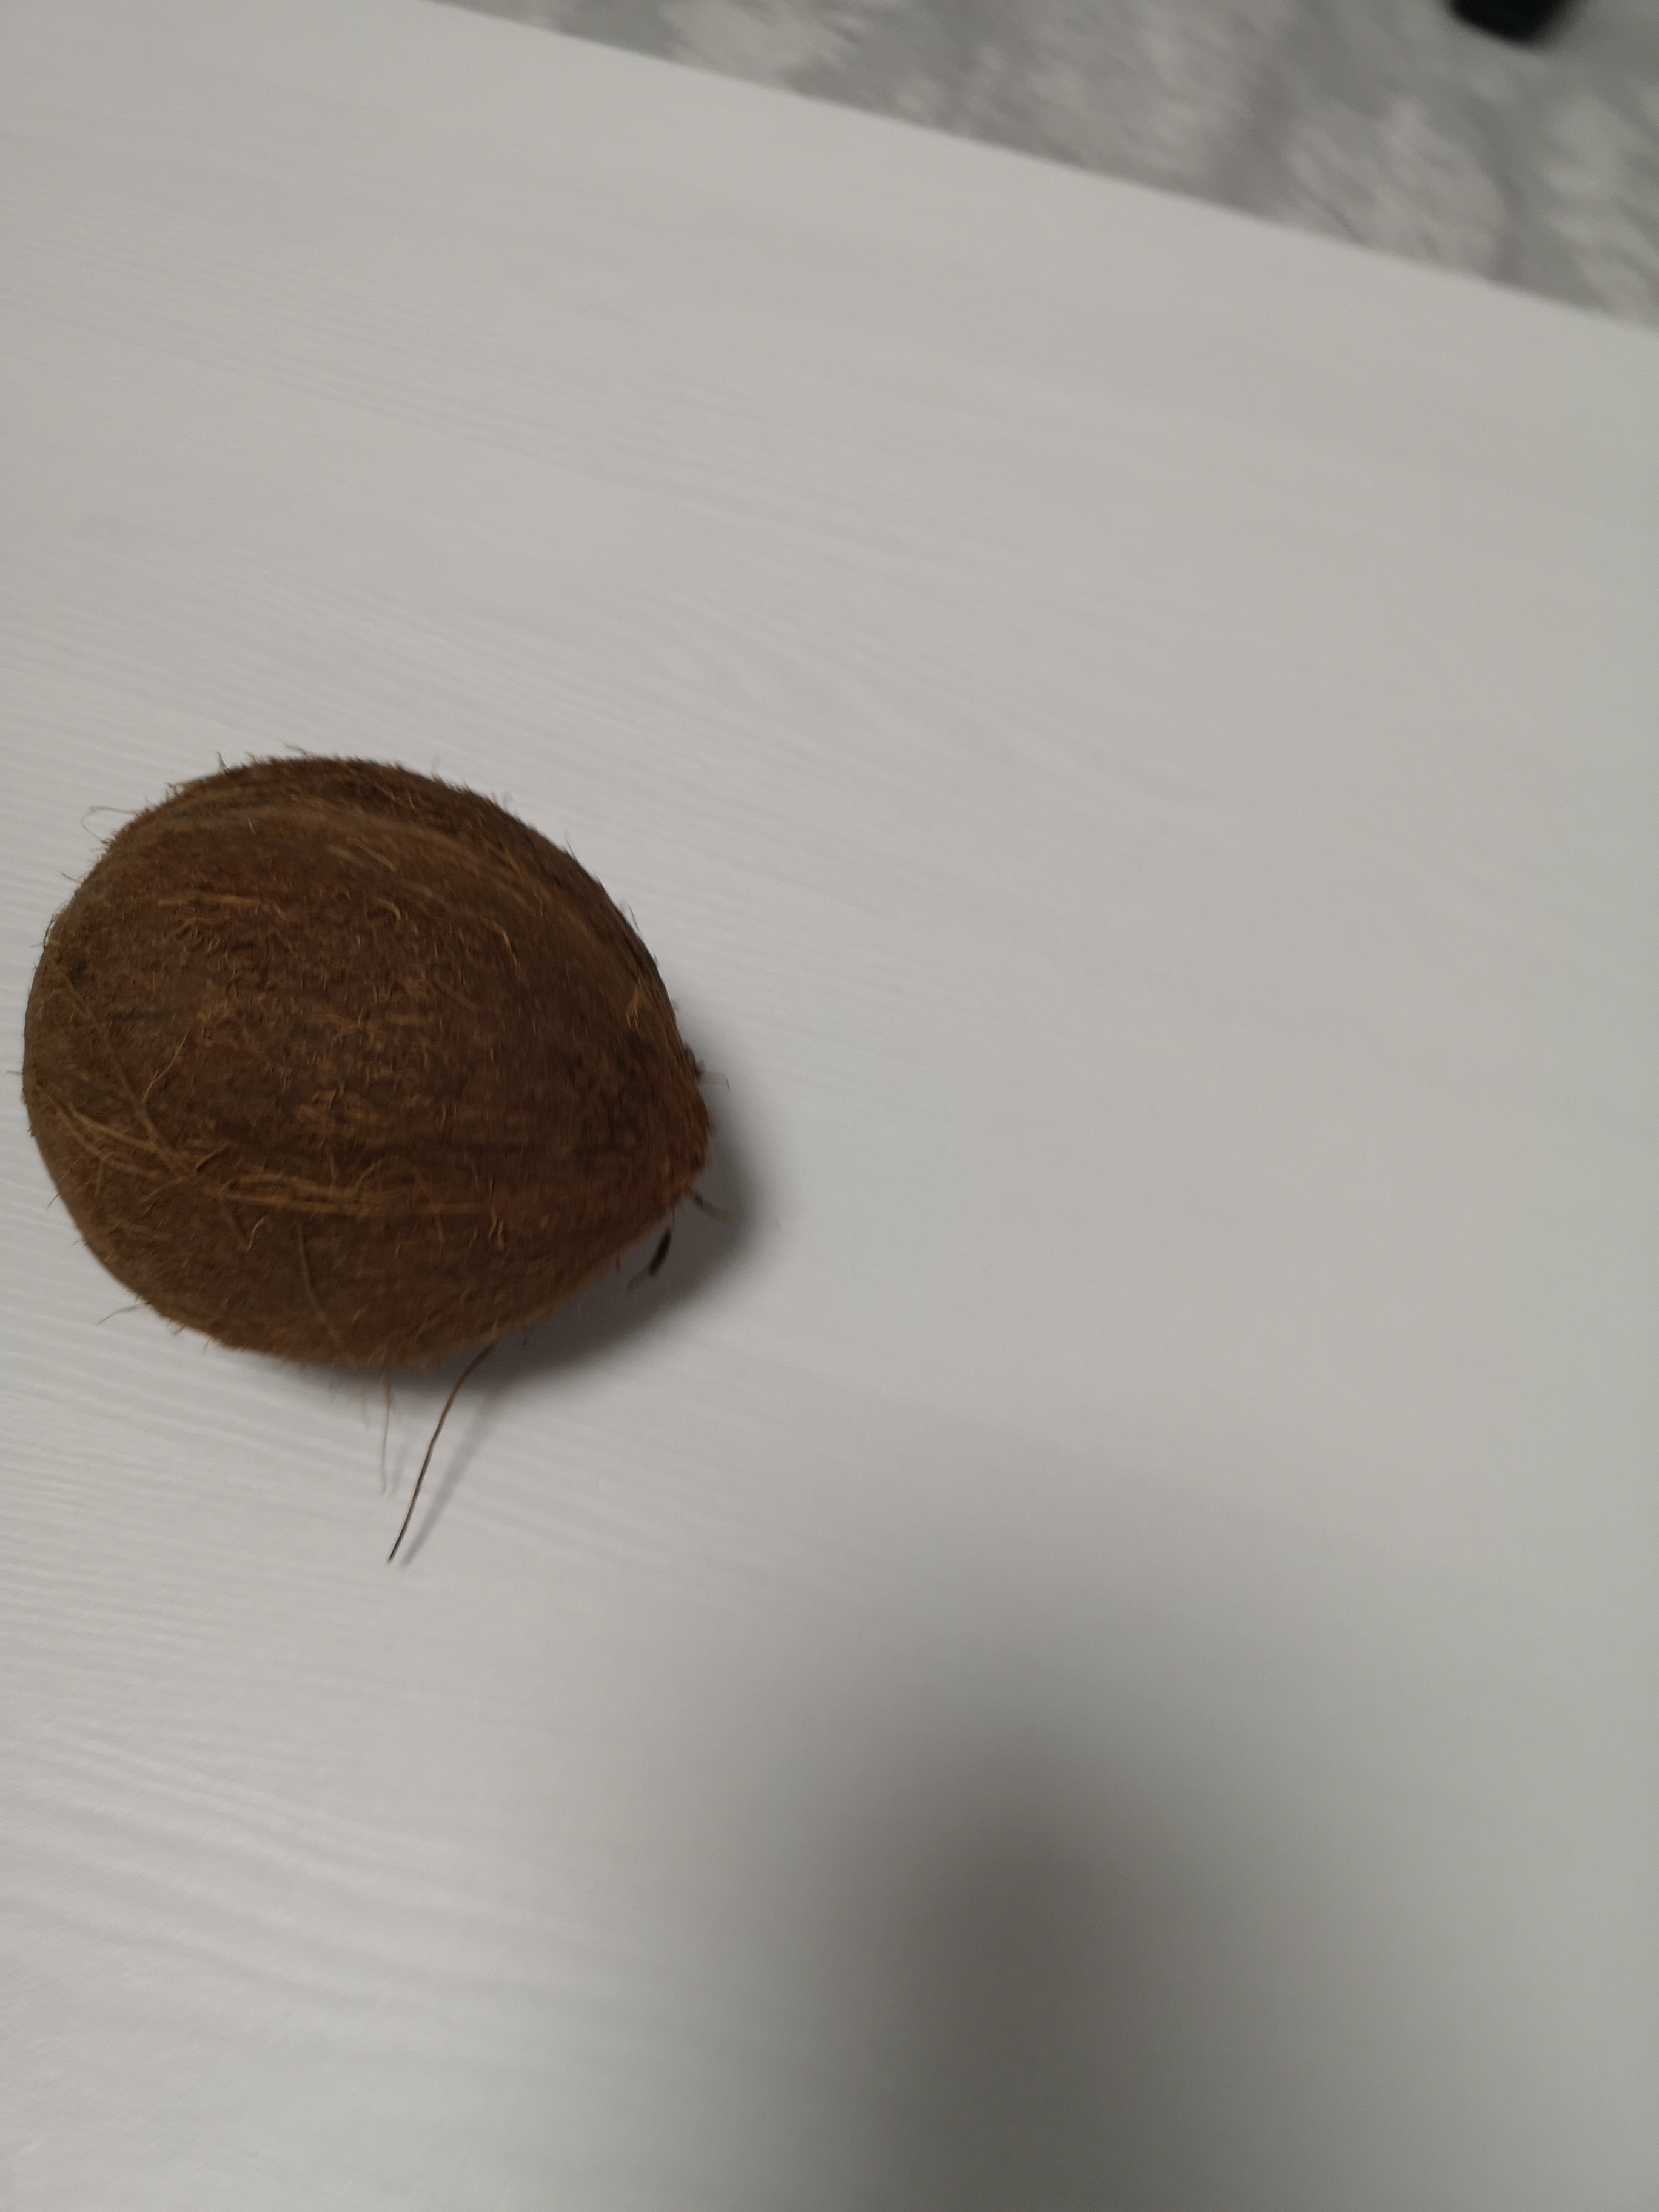coconut: (26, 735, 720, 1390)
